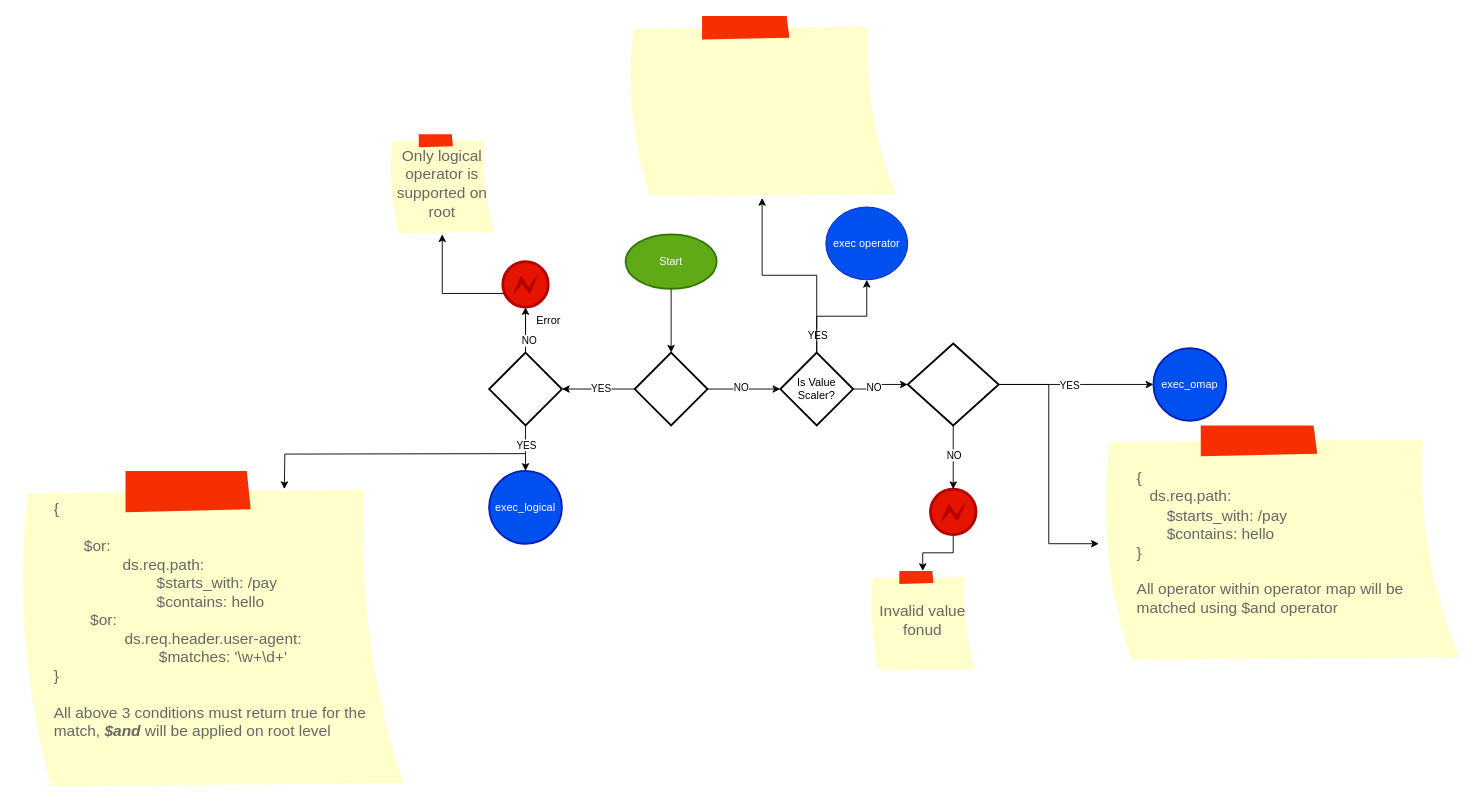
Some shapes in this 1479 by 805 pixel diagram are drawn without their labels. Here are the shapes that lost their labels. From the top down, the centre of each, then its label:
At point (762, 106): "{ ds.req.path: /hello } Scaler values will be matched using $eq operator".
At point (525, 388): "Is logical Operator?".
At point (670, 388): "Key starts with $".
At point (952, 384): "Is value operator map?".
